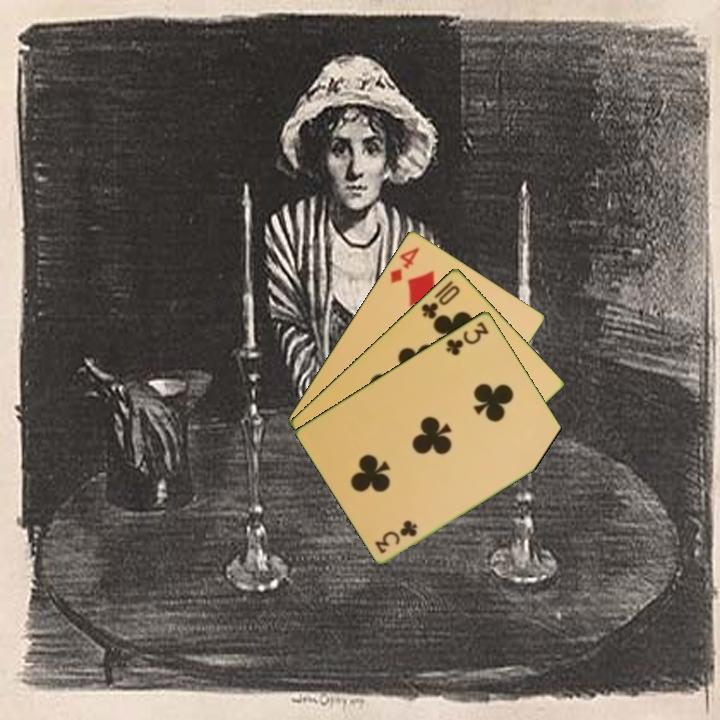10c: (418, 276, 463, 322)
3c: (442, 318, 492, 358), (372, 517, 421, 556)
4d: (386, 243, 422, 286)
